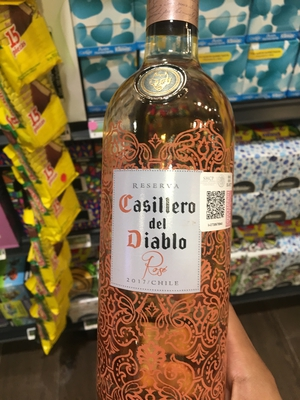casillero del diablo rose: (87, 8, 262, 386)
